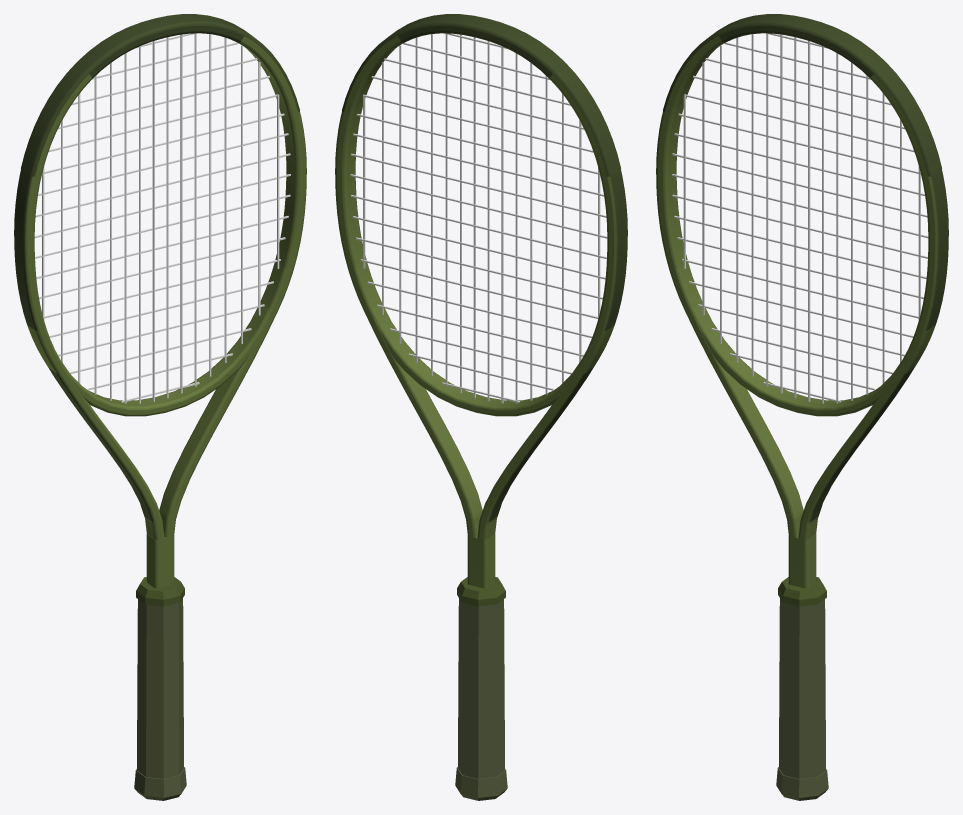
Rendered from prince-phantom-100p-2024.glb.
3 views of the same model, side by side, from view 1: azimuth 30°, elevation 25°; view 2: azimuth 150°, elevation 25°; view 3: azimuth 330°, elevation 25° (orthographic).
Parts seen in each view (by area): view 1: frame, strings_mains, strings_crosses, grip, bumper, butt_cap, collar; view 2: frame, strings_mains, strings_crosses, grip, bumper, butt_cap, collar; view 3: frame, strings_mains, strings_crosses, grip, bumper, butt_cap, collar.
Part boxes in pixels (x1=…): frame: x1=14, y1=25, x2=306, y2=588; strings_mains: x1=42, y1=33, x2=279, y2=403; strings_crosses: x1=34, y1=33, x2=290, y2=402; grip: x1=137, y1=598, x2=183, y2=778; bumper: x1=21, y1=14, x2=299, y2=176; butt_cap: x1=134, y1=767, x2=186, y2=800; collar: x1=136, y1=577, x2=184, y2=606; frame: x1=335, y1=25, x2=627, y2=588; strings_mains: x1=363, y1=34, x2=600, y2=403; strings_crosses: x1=350, y1=33, x2=607, y2=402; grip: x1=458, y1=598, x2=504, y2=778; bumper: x1=342, y1=14, x2=620, y2=176; butt_cap: x1=455, y1=767, x2=507, y2=800; collar: x1=457, y1=577, x2=505, y2=606; frame: x1=656, y1=25, x2=948, y2=588; strings_mains: x1=683, y1=33, x2=920, y2=403; strings_crosses: x1=672, y1=33, x2=928, y2=402; grip: x1=779, y1=598, x2=825, y2=778; bumper: x1=663, y1=14, x2=941, y2=176; butt_cap: x1=776, y1=767, x2=828, y2=800; collar: x1=778, y1=577, x2=826, y2=606.
Size of the model in its own units: 0.2649 by 0.6861 by 0.0396.
